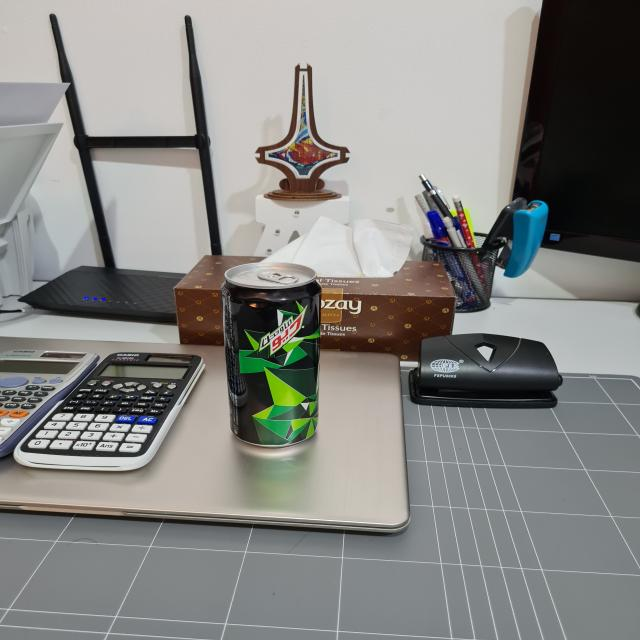non-organic waste: (221, 264, 322, 451)
